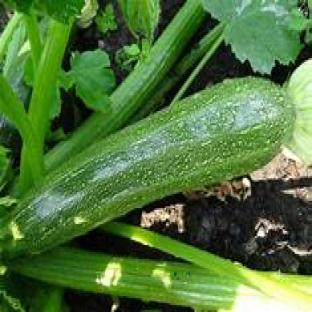Zucchini: (0, 78, 294, 257)
